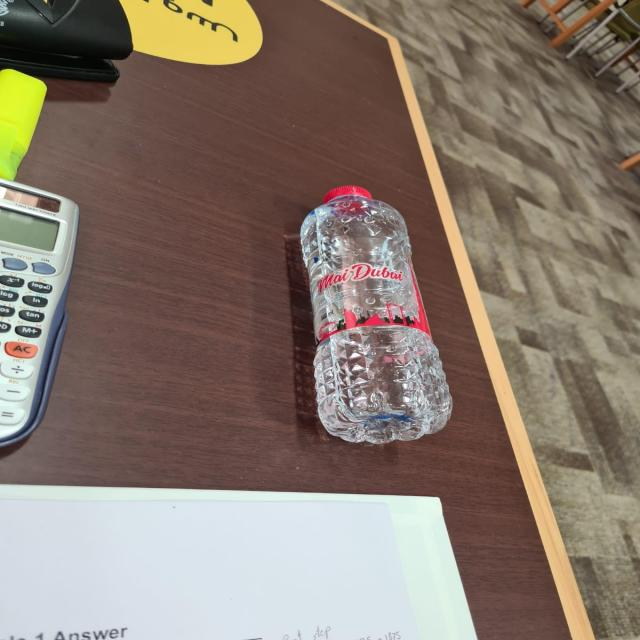bottle: (287, 182, 466, 458)
